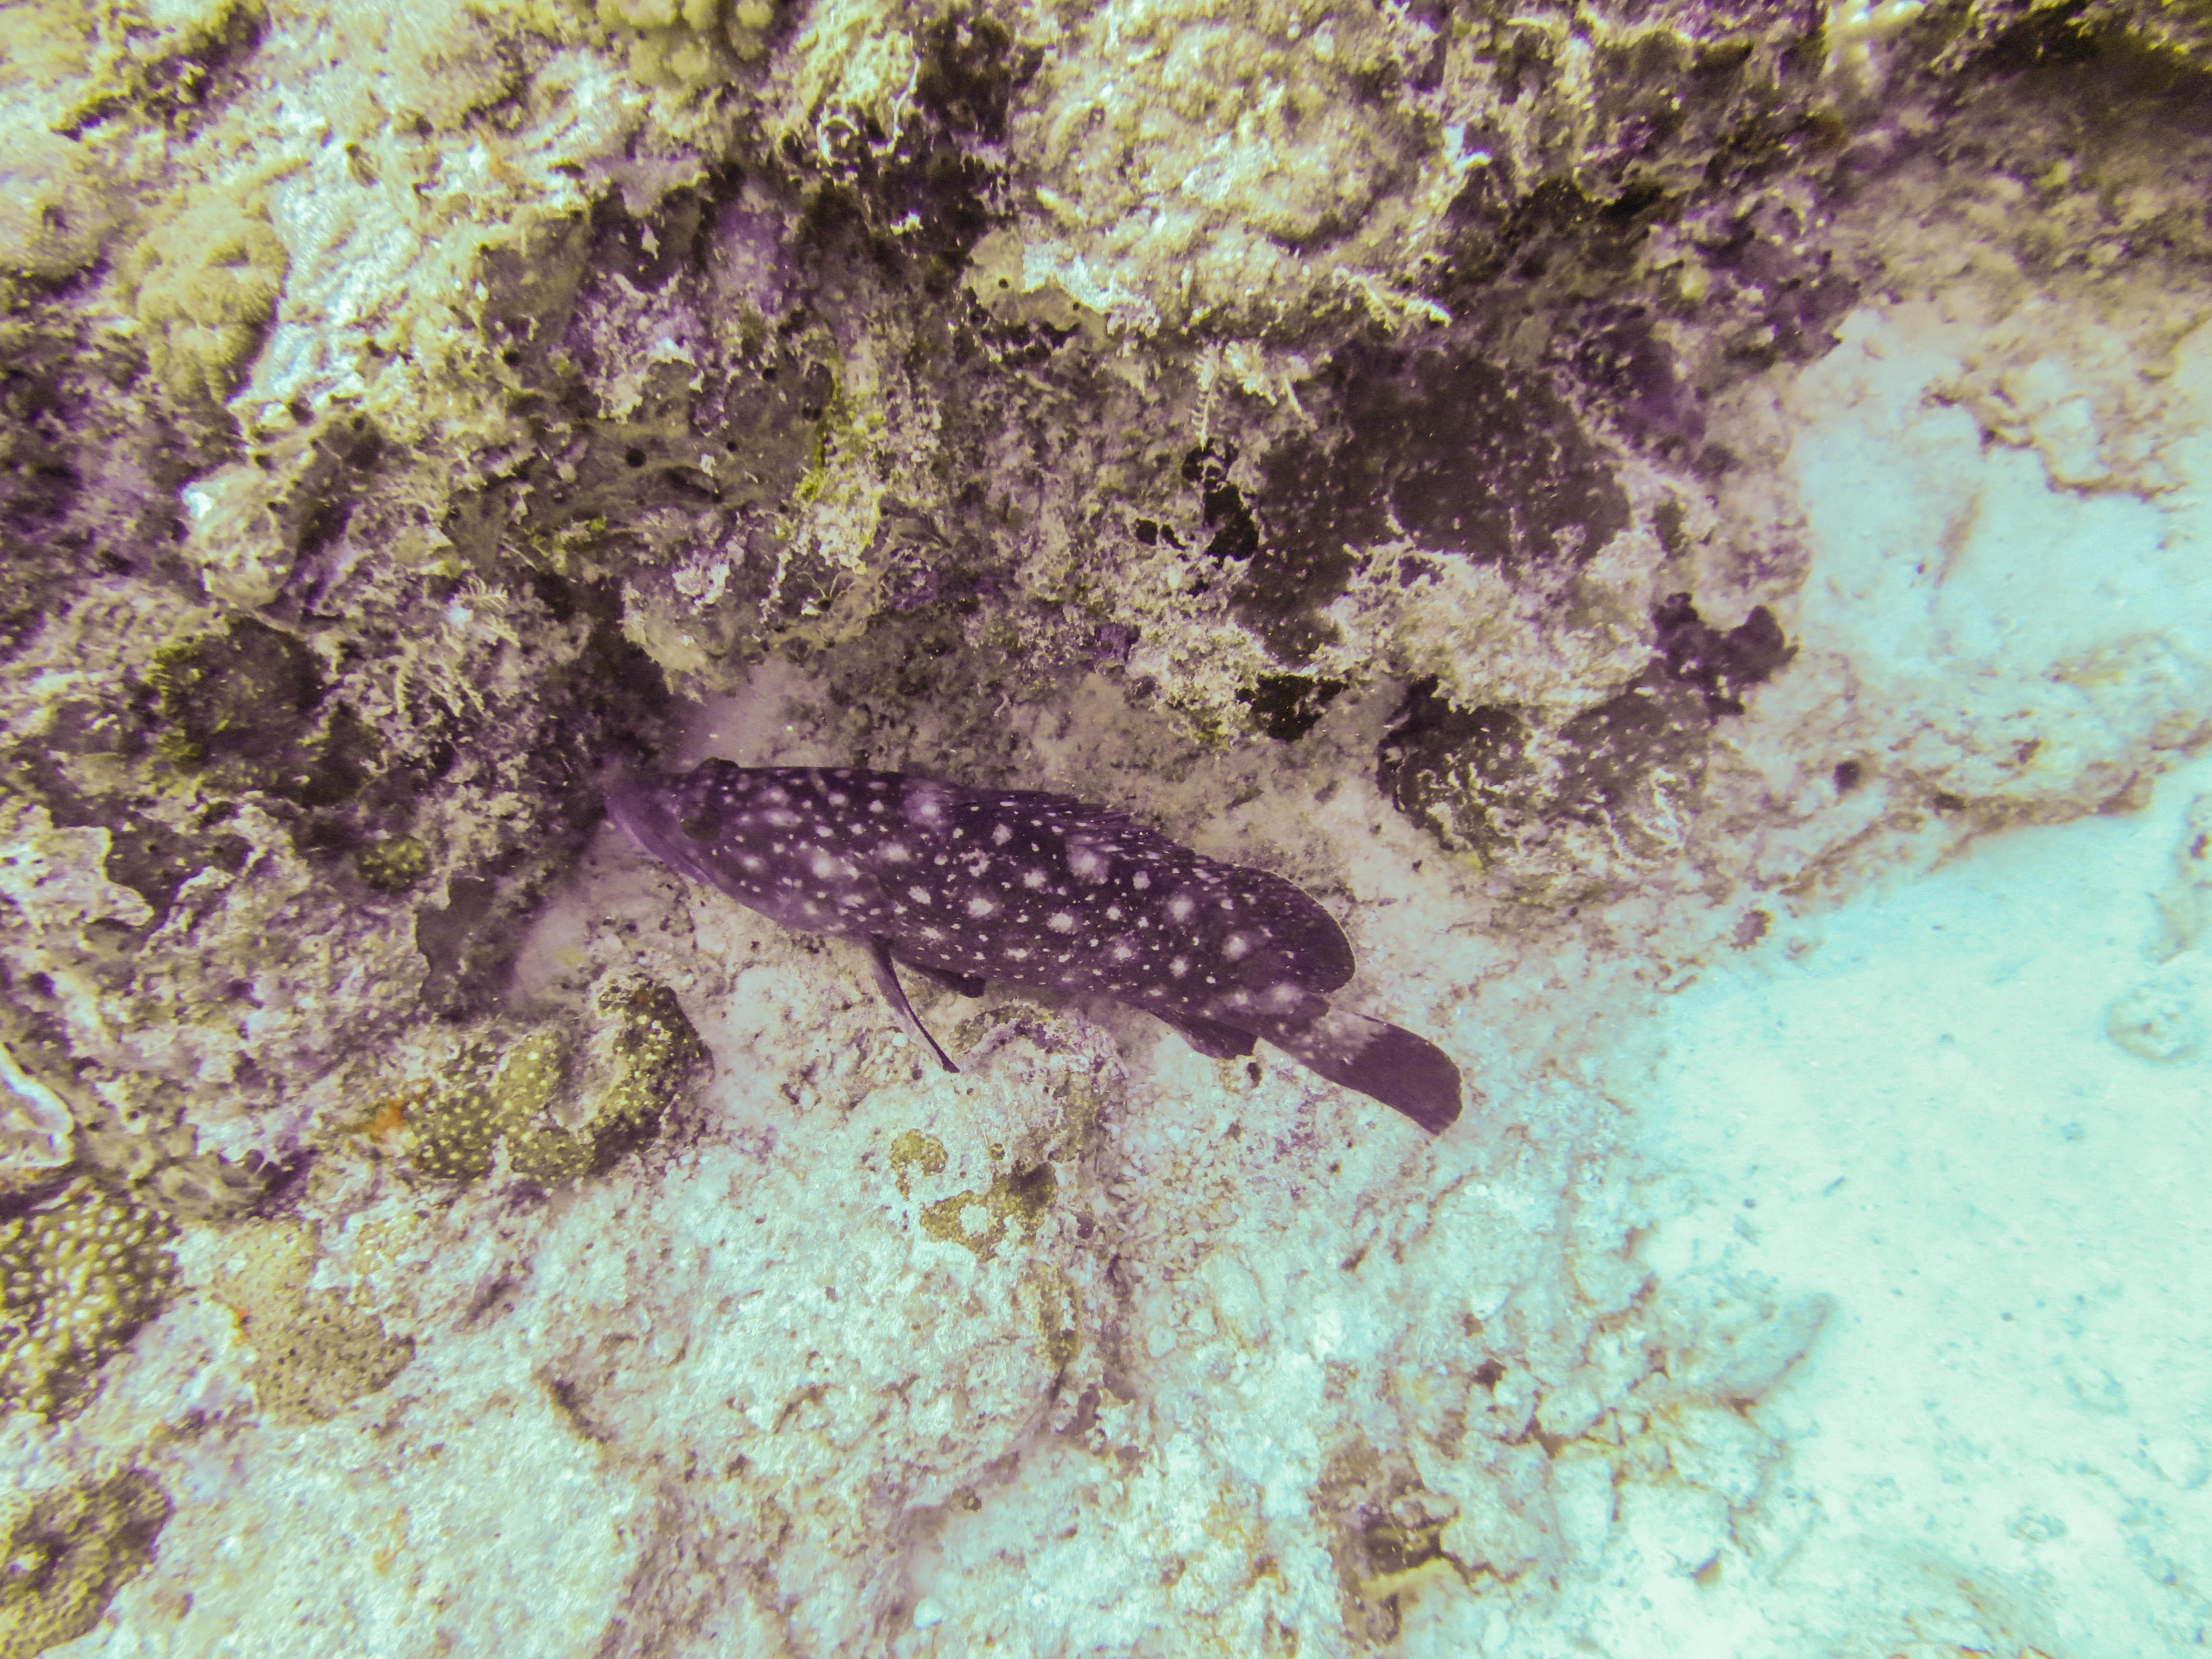Fish: (552, 653, 1573, 1241)
